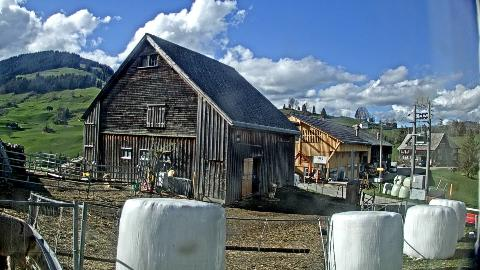car: (388, 166, 398, 172), (418, 161, 426, 167)
sheep: (0, 212, 52, 270), (104, 173, 122, 189), (267, 182, 277, 198)
